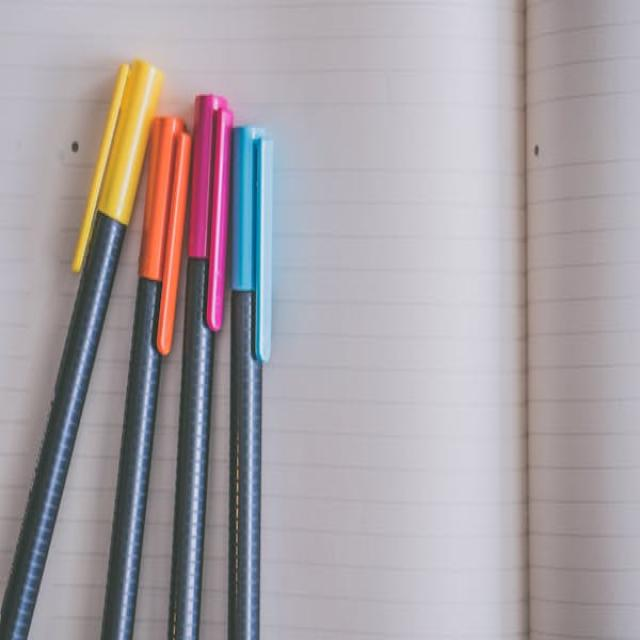pen: (0, 45, 174, 638), (87, 97, 194, 638), (161, 77, 236, 638), (220, 111, 272, 638)
